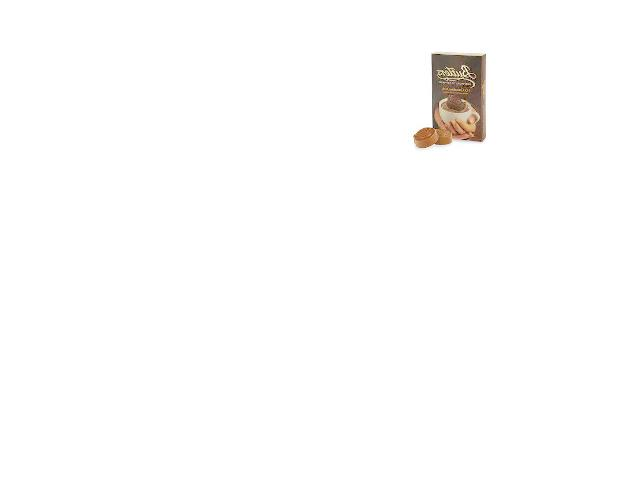chocolate: (423, 49, 489, 144)
